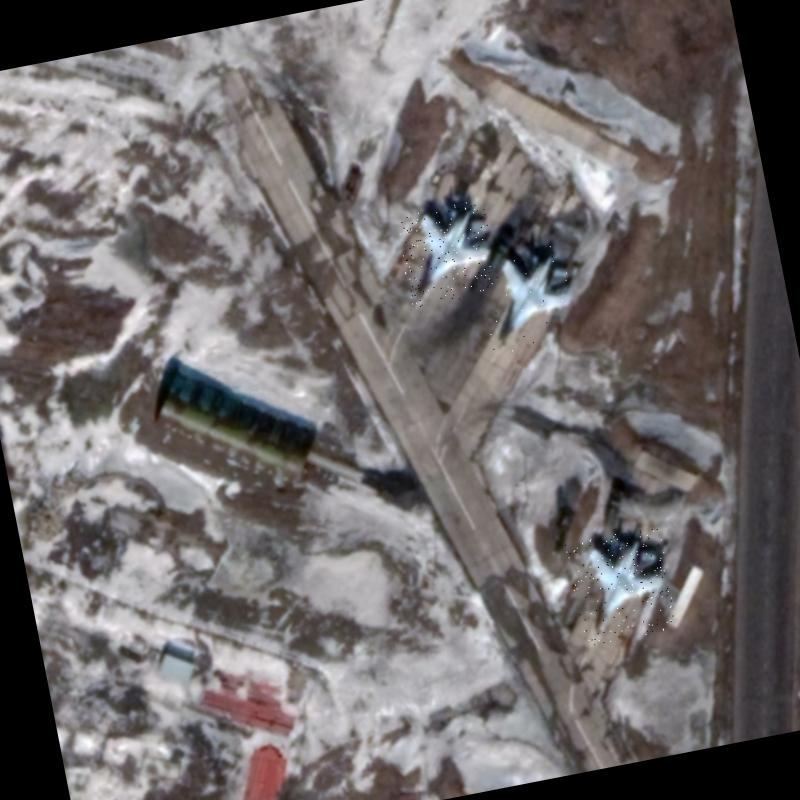A1: (564, 525, 678, 646), (474, 243, 582, 356), (393, 198, 500, 309)
